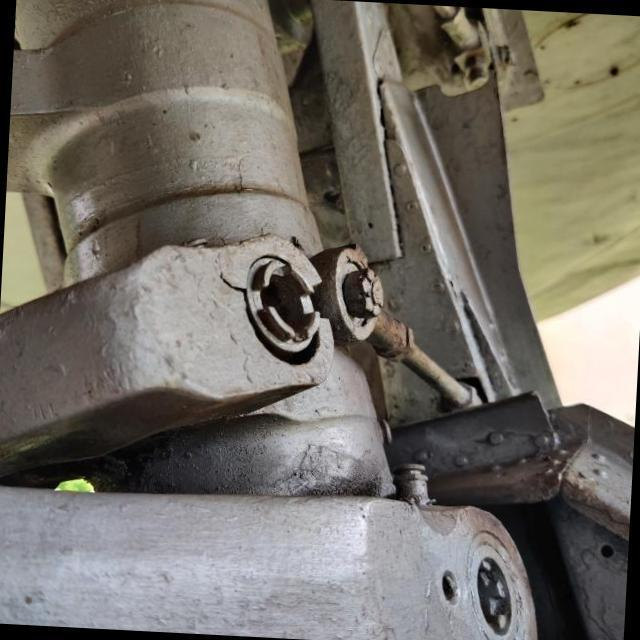Rupture: (207, 257, 250, 300)
